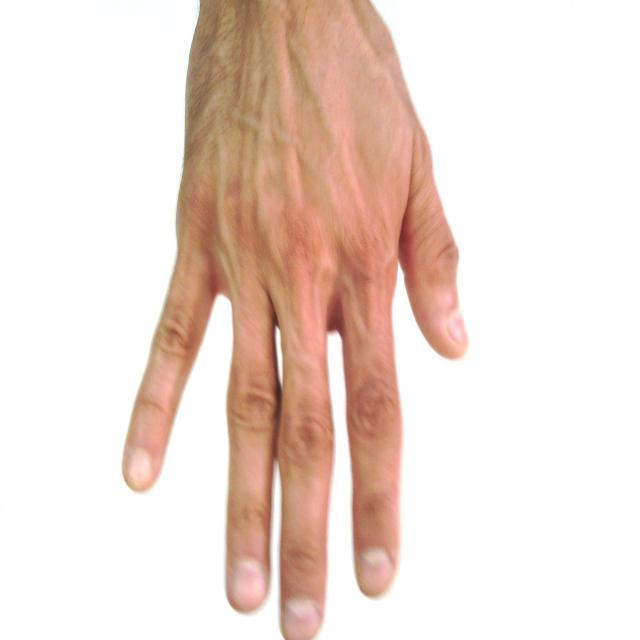Fingernail: (233, 563, 265, 608), (361, 550, 392, 593), (285, 601, 320, 639), (129, 452, 152, 487), (450, 313, 466, 344)
